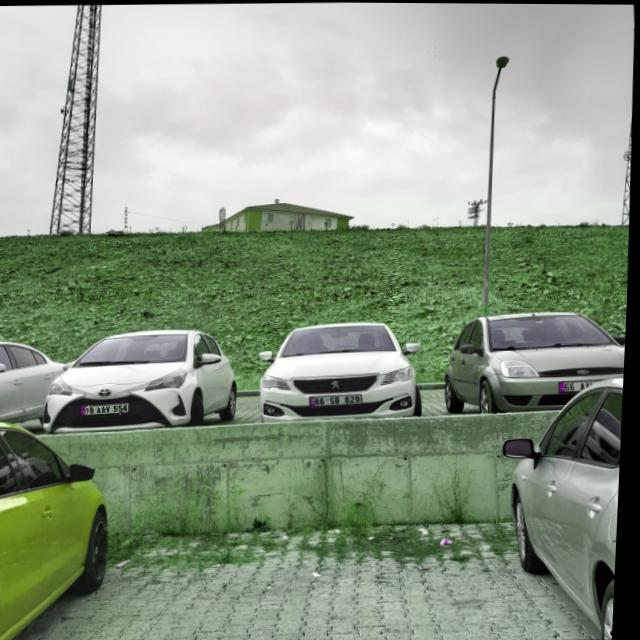license_plate: (313, 394, 364, 406), (83, 404, 133, 416)
